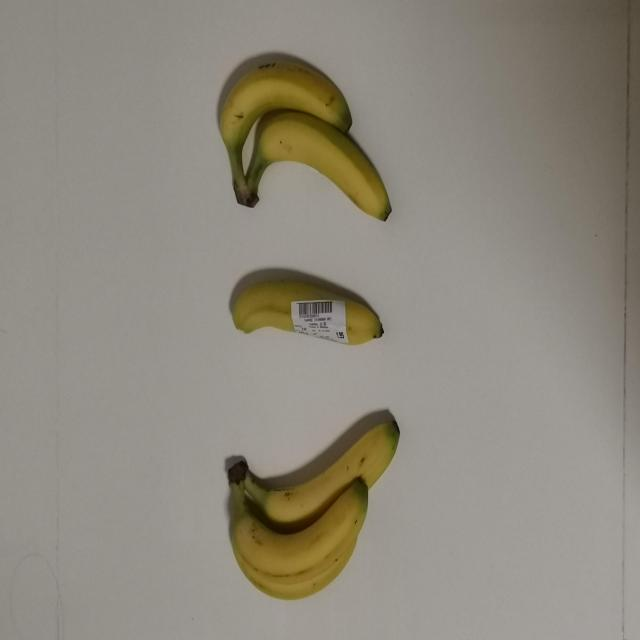Banana: (203, 45, 403, 229), (225, 416, 400, 597), (229, 255, 387, 355)
